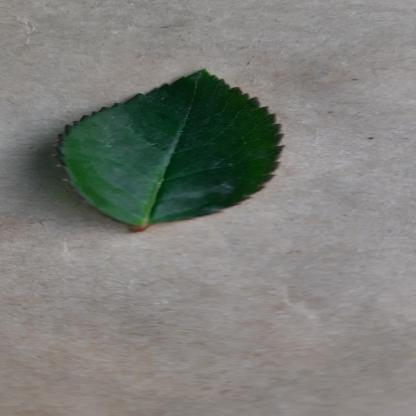normal: (50, 66, 288, 226)
